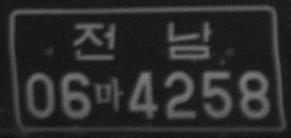0: (24, 70, 56, 119)
2: (164, 70, 198, 120)
4: (126, 70, 159, 119)
5: (201, 70, 233, 120)
6: (59, 71, 92, 120)
8: (238, 68, 271, 119)
마: (94, 75, 124, 113)
전남_D: (72, 20, 214, 61)
